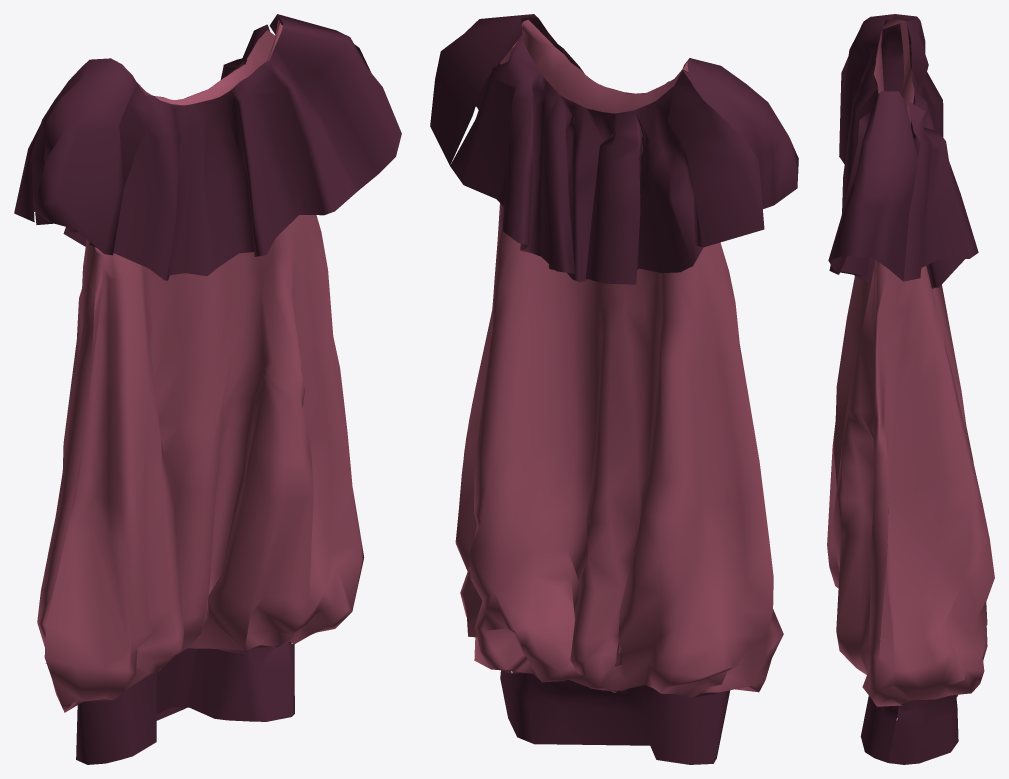
The model's file is Dress04.fbx.
3 views of the same model, side by side, from view 1: azimuth 30°, elevation 25°; view 2: azimuth 150°, elevation 25°; view 3: azimuth 270°, elevation 25° (orthographic). The views are drawn at different scales.
Parts seen in each view (by area): view 1: Dress04; view 2: Dress04; view 3: Dress04.
Part boxes in pixels (box(x1,y1,x2,y2)): Dress04: box(14, 14, 401, 764); Dress04: box(430, 14, 798, 764); Dress04: box(827, 14, 994, 764).
Bounding box in the file's own units: 53.79 × 100 × 22.69.
